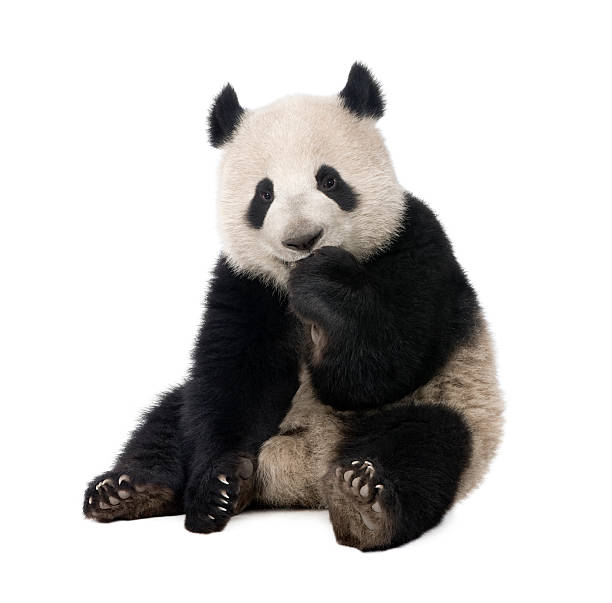panda: (188, 43, 446, 294)
